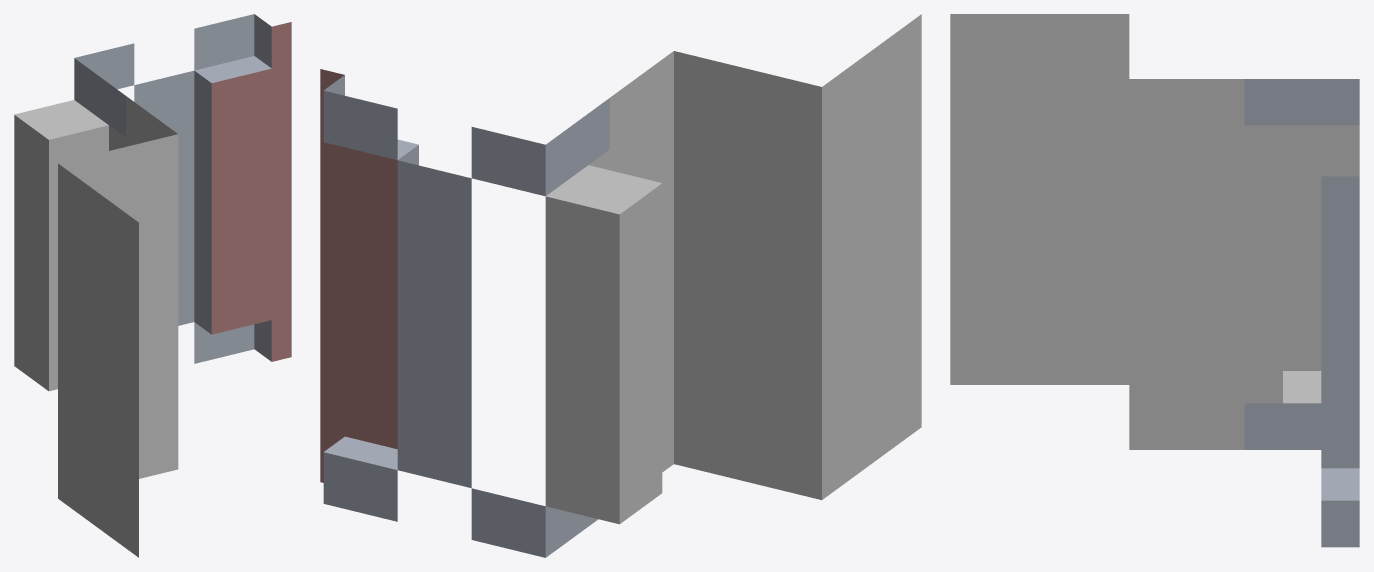
File: cell_5.obj
3 views of the same model, side by side, from view 1: azimuth 30°, elevation 25°; view 2: azimuth 150°, elevation 25°; view 3: azimuth 270°, elevation 25° (orthographic). The views are drawn at different scales.
Bounding box in the file's own units: 1 × 1 × 1.
